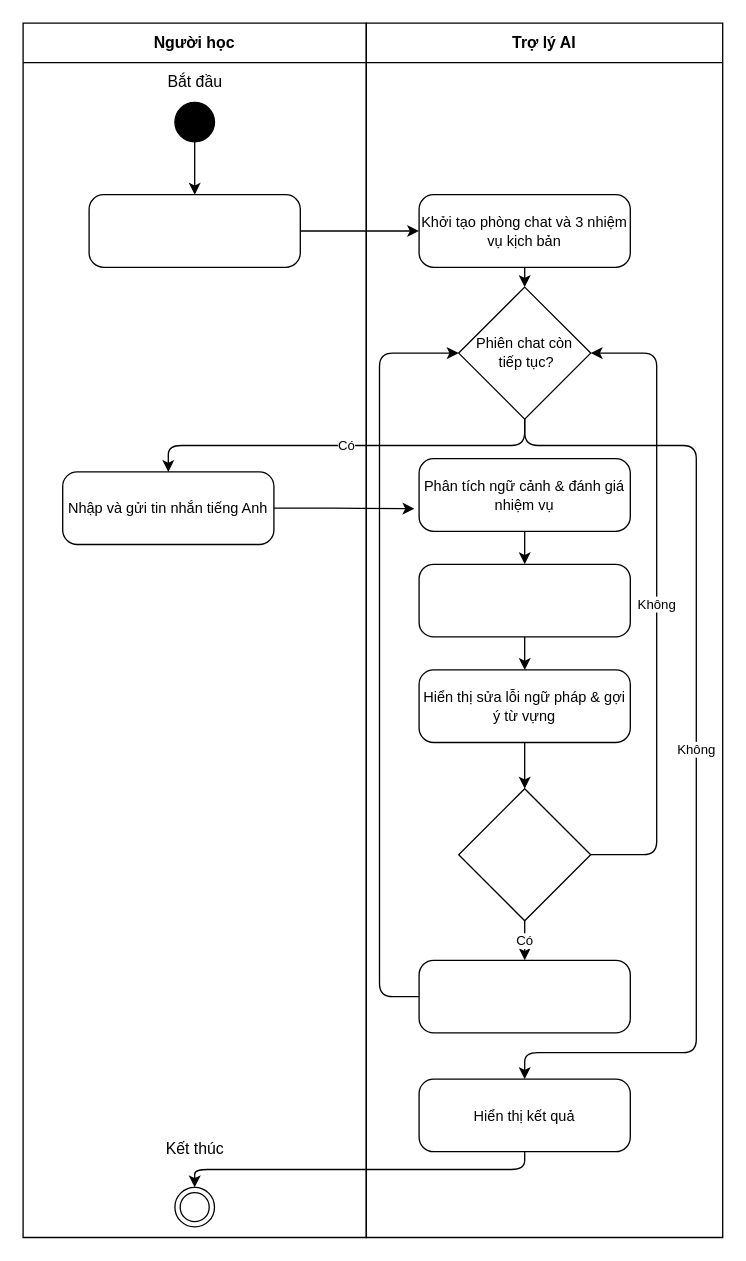
The diagram is 746 pixels wide and 1261 high, and some of its shapes have lost their labels. Here are the shapes that lost their labels. From the top down, the centre of each, then its label:
the point at 194,230: Chọn kịch bản nhập vai trong sảnh chờ
the point at 524,600: Gửi tin nhắn phản hồi hội thoại
the point at 524,854: Đạt 3 nhiệm vụ hoặc người học gác máy?
the point at 524,996: Đóng phiên hội thoại
